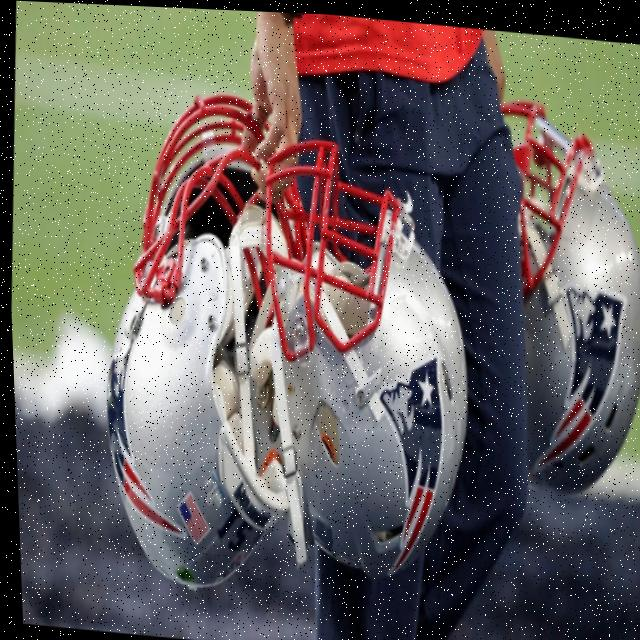illegal_helmet: (242, 115, 492, 599), (82, 137, 312, 611), (474, 82, 640, 504)
